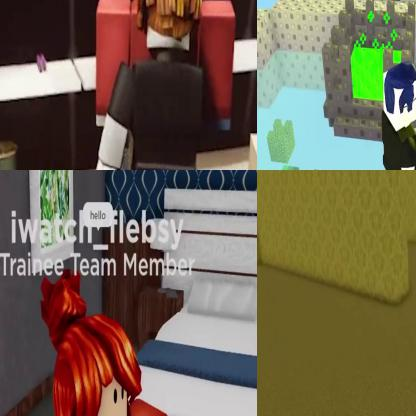Roblox-Avatar: (8, 269, 176, 416), (95, 1, 204, 170), (363, 62, 416, 170)
